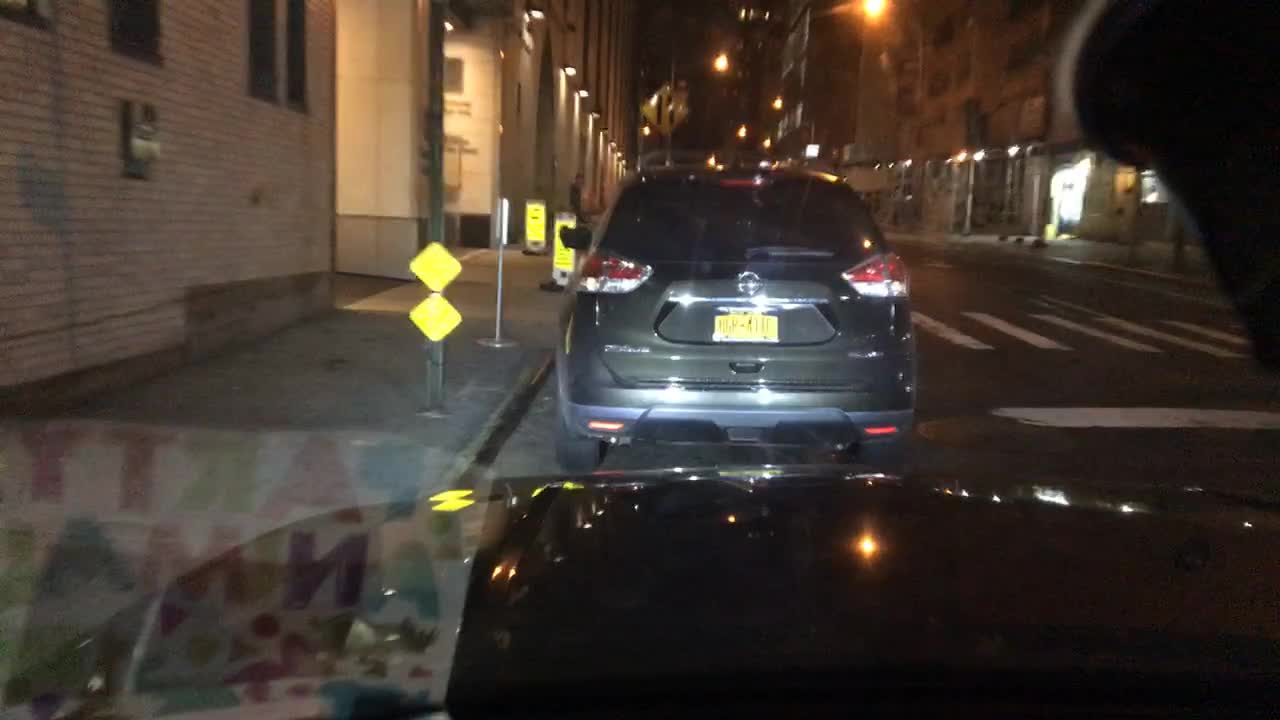car: (550, 167, 922, 479)
person: (563, 168, 588, 218)
traffic light: (1116, 164, 1135, 190)
traffic sign: (404, 240, 462, 290), (638, 81, 693, 133), (408, 291, 462, 339), (804, 142, 819, 158)
